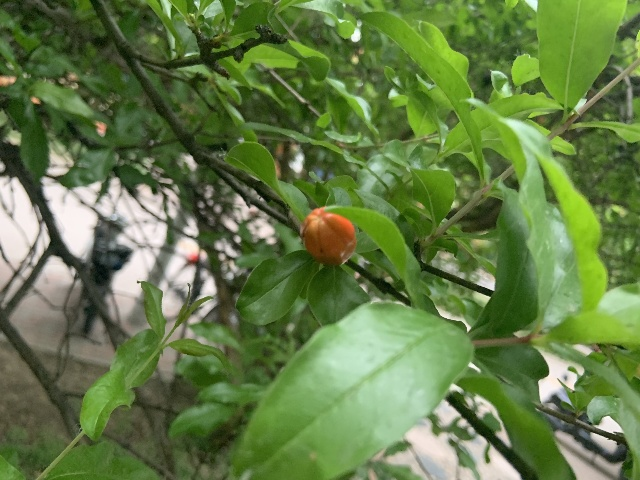bud: (301, 208, 356, 265)
